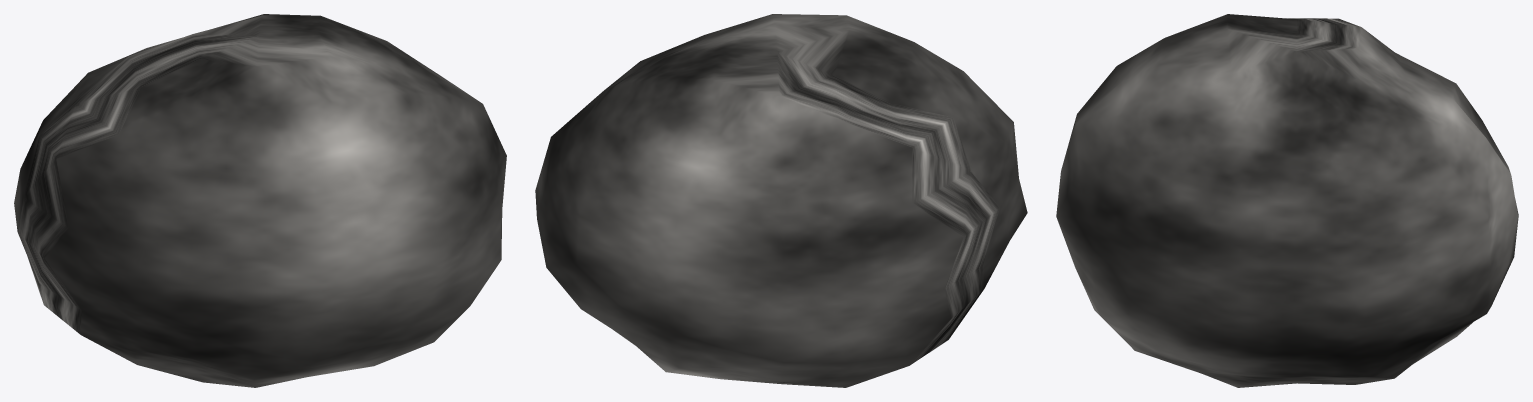
File: rock.glb
3 renders of one model, left to right at view 1: azimuth 30°, elevation 25°; view 2: azimuth 150°, elevation 25°; view 3: azimuth 270°, elevation 25°, orthographic. The views are drawn at different scales.
Bounding box in the file's own units: 8.93 × 6.33 × 8.62.
Materials: 1 (1 with a texture image).
